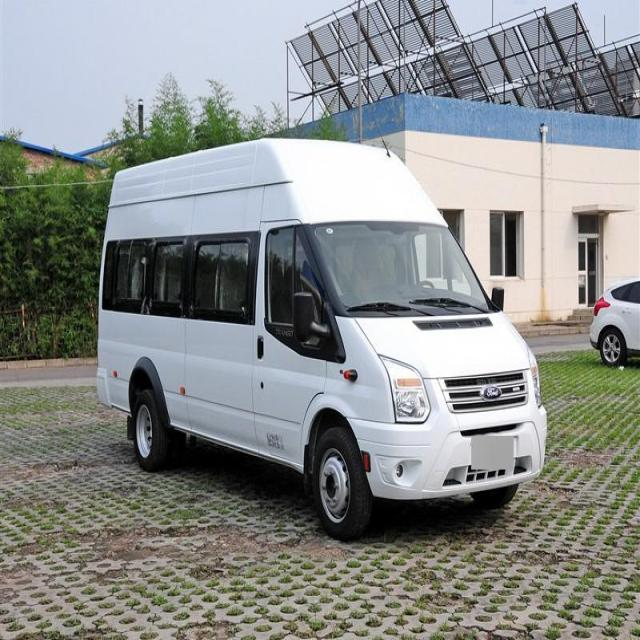door: (150, 233, 253, 435)
front_bumper: (343, 402, 549, 503)
front_glass: (310, 220, 490, 312)
front_left_side_light: (527, 347, 543, 412)
front_left_side_mirror: (490, 282, 508, 310)
front_right_side_door: (252, 216, 332, 429)
front_right_side_light: (378, 352, 431, 429)
front_right_side_mirror: (291, 290, 327, 344)
wheel: (312, 428, 366, 537), (135, 390, 165, 470)
